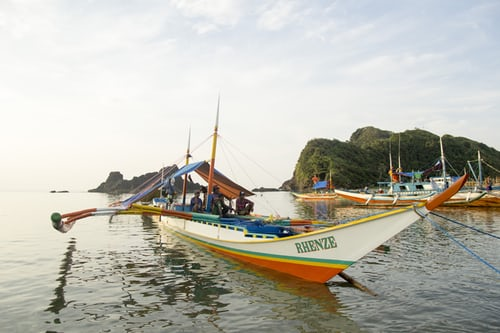yacht: (86, 113, 458, 289)
